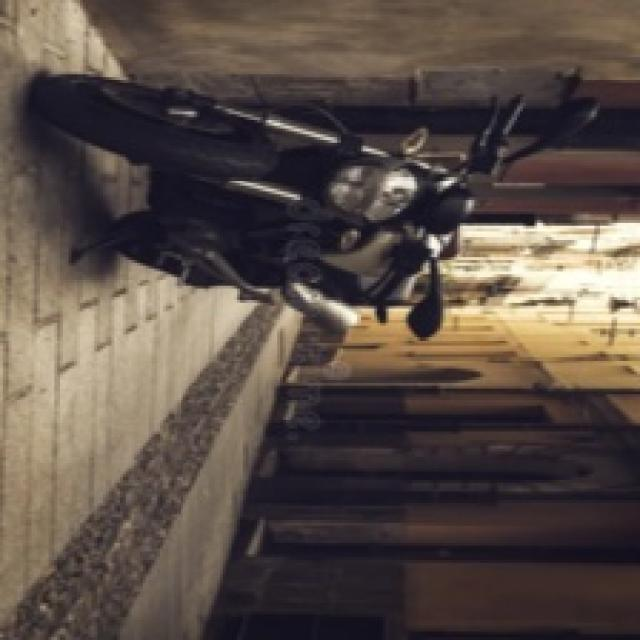bike: (54, 54, 482, 317)
